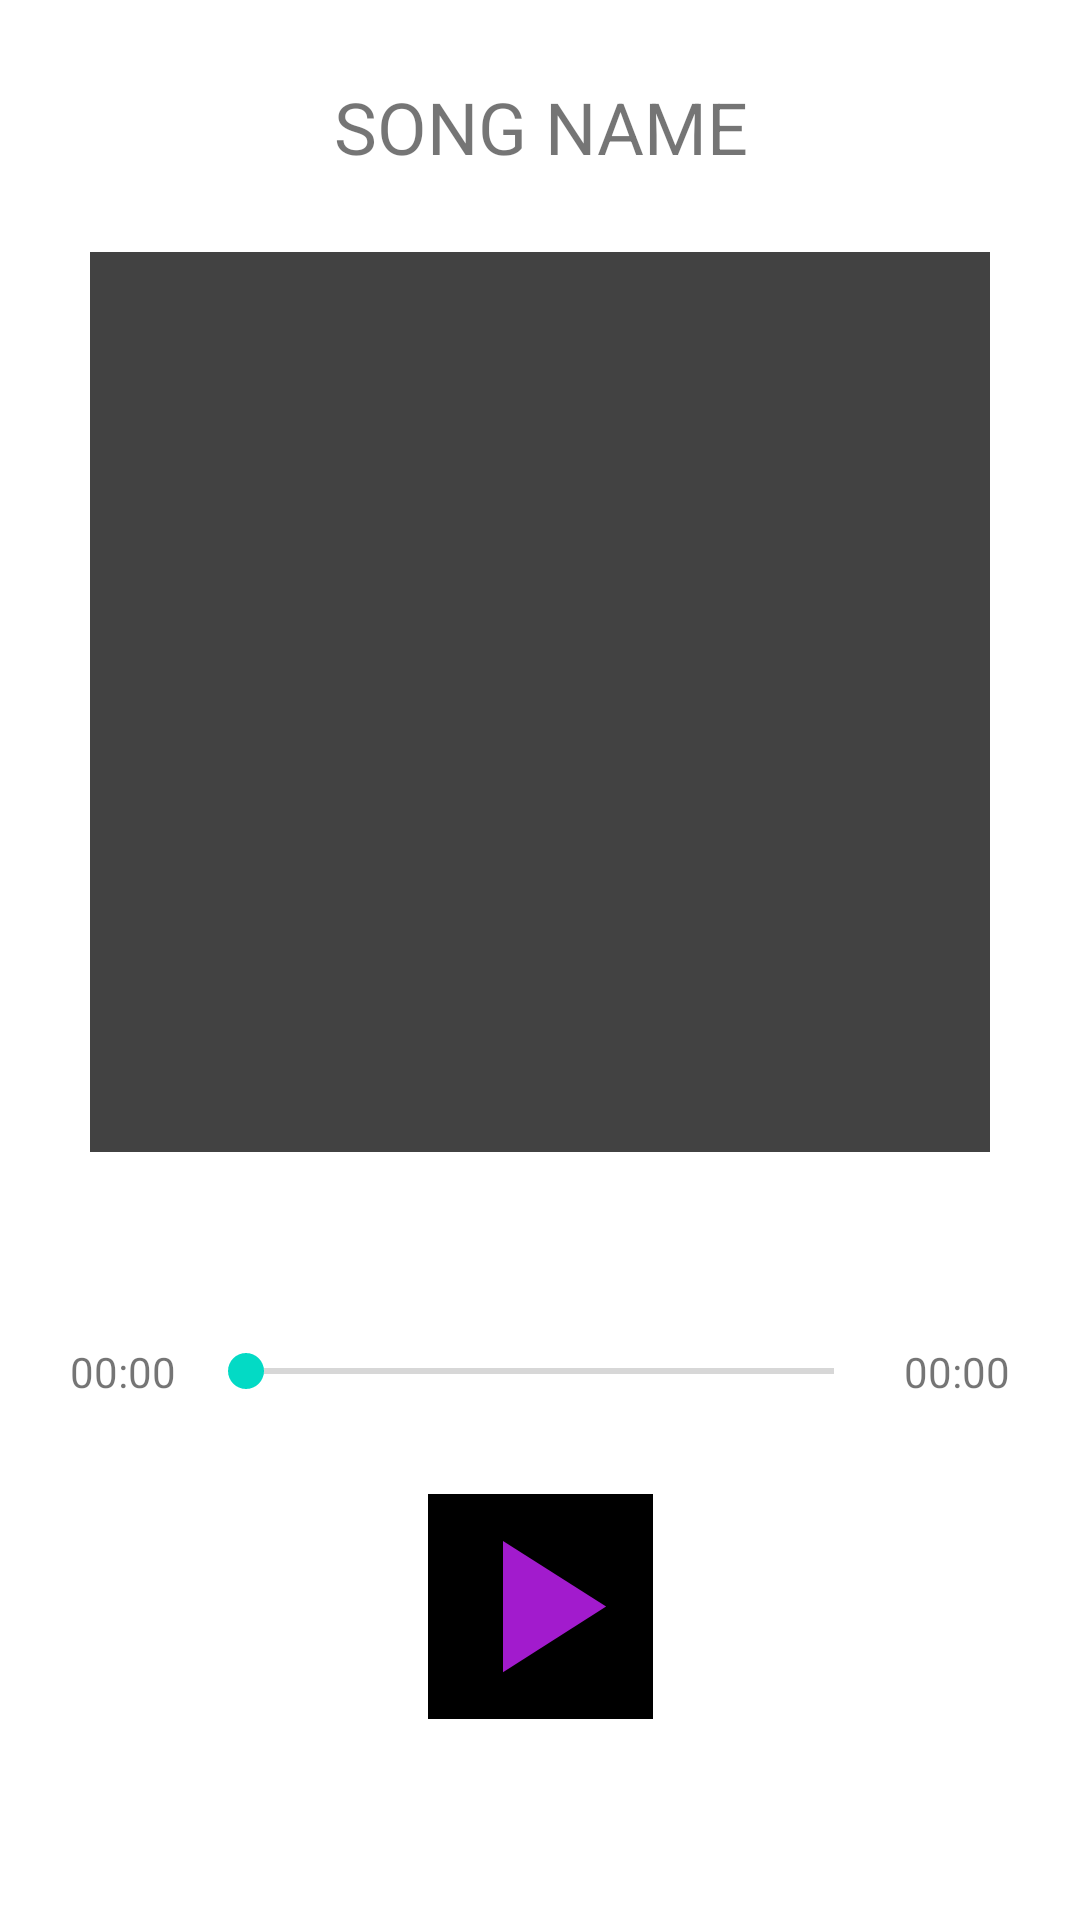

Named icons in this screenshot (1080*1920) and their centers, point (x, y):
play arrow: point (540, 1606)
